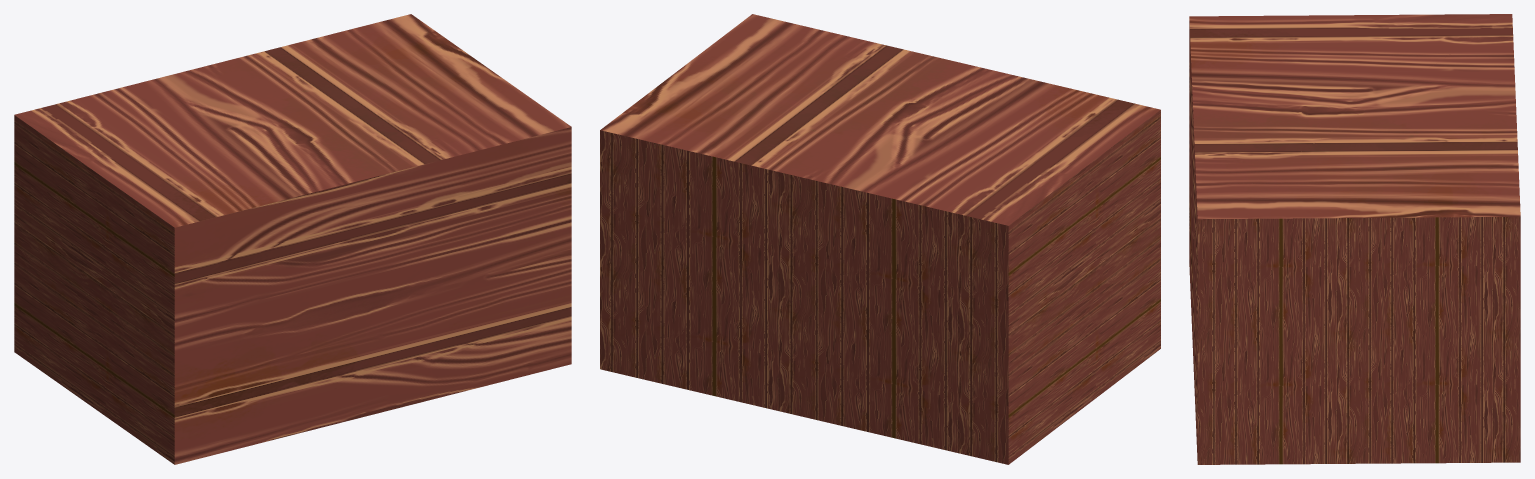
3 views of the same model, side by side, from view 1: azimuth 30°, elevation 25°; view 2: azimuth 150°, elevation 25°; view 3: azimuth 270°, elevation 25° (orthographic). The views are drawn at different scales.
Visible parts, largest first — view 1: Cube.1465; view 2: Cube.1465; view 3: Cube.1465.
Part boxes in pixels (bbox=[...]): Cube.1465: bbox=[14, 14, 571, 464]; Cube.1465: bbox=[600, 14, 1160, 464]; Cube.1465: bbox=[1189, 14, 1520, 464].
Size of the model in its own units: 1610 by 899 by 1099.
1 material, 1 textured.
